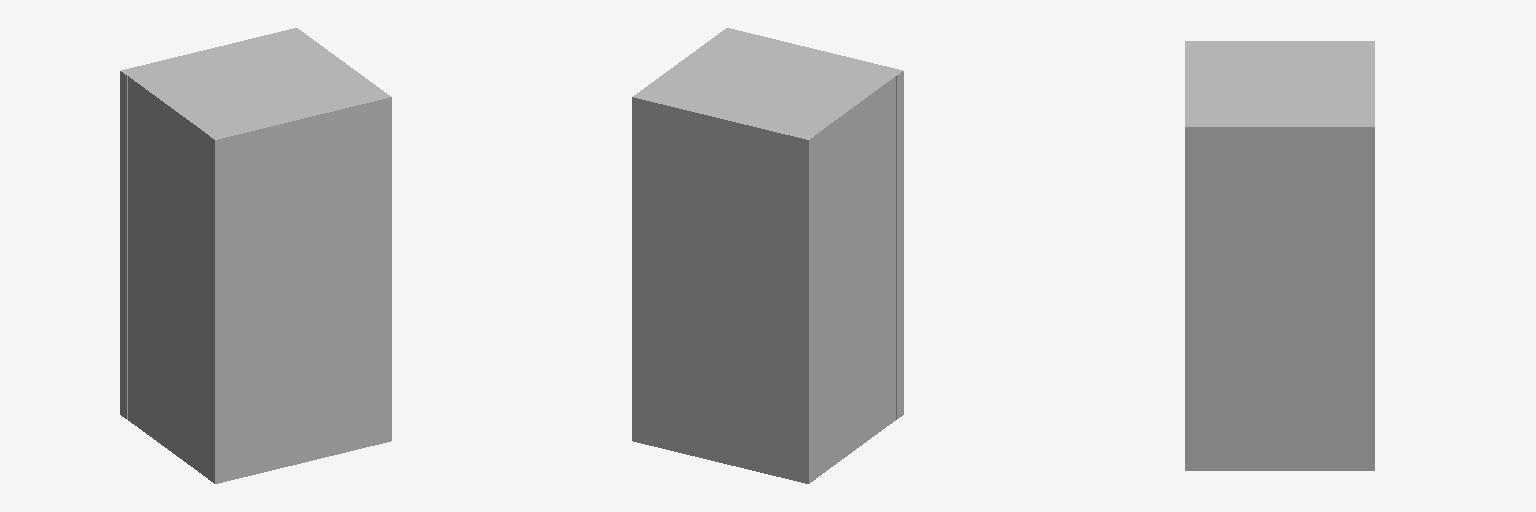
The model's file is DrinkMachine.obj.
The picture shows the model from 3 angles: view 1: azimuth 30°, elevation 25°; view 2: azimuth 150°, elevation 25°; view 3: azimuth 270°, elevation 25°; orthographic projection.
Visible parts, largest first — view 1: polySurface25, polySurface1 pCube3; view 2: polySurface25, polySurface1 pCube3; view 3: polySurface1 pCube3, polySurface25.
Part boxes in pixels (x1,y1,x2,y2): polySurface25: (120,31,379,483); polySurface1 pCube3: (285,28,391,443); polySurface25: (644,31,903,483); polySurface1 pCube3: (632,28,738,443); polySurface1 pCube3: (1185,121,1374,470); polySurface25: (1185,41,1374,120).
Bounding box in the file's own units: 1.07 × 2 × 1.